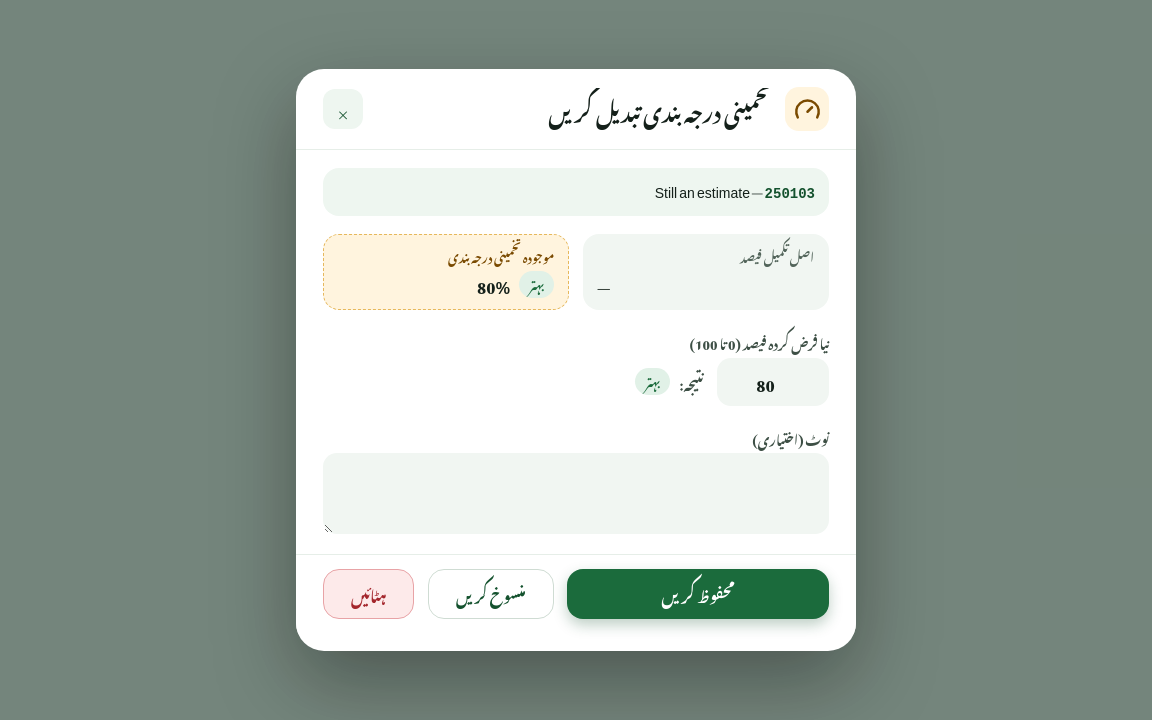
Scenario: saving: the confirmation that the new value is final › cancelling returns to the dialog with what was typed, and saves nothing
The width and height of the screenshot is (1152, 720).
Replace the text in the number field labelled "نیا فرض کردہ فیصد (0 تا 100)" with "95" at (773, 382), box [717,358,829,406]
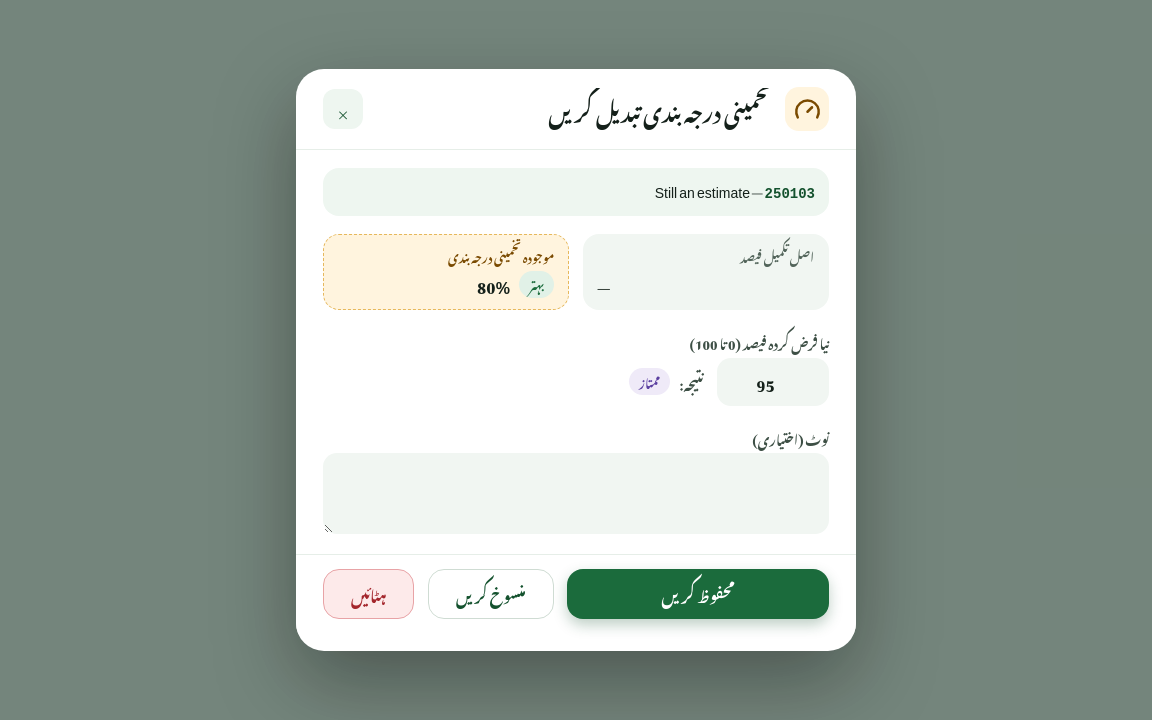
Click the button "محفوظ کریں" at (698, 594), box [567,569,829,619]
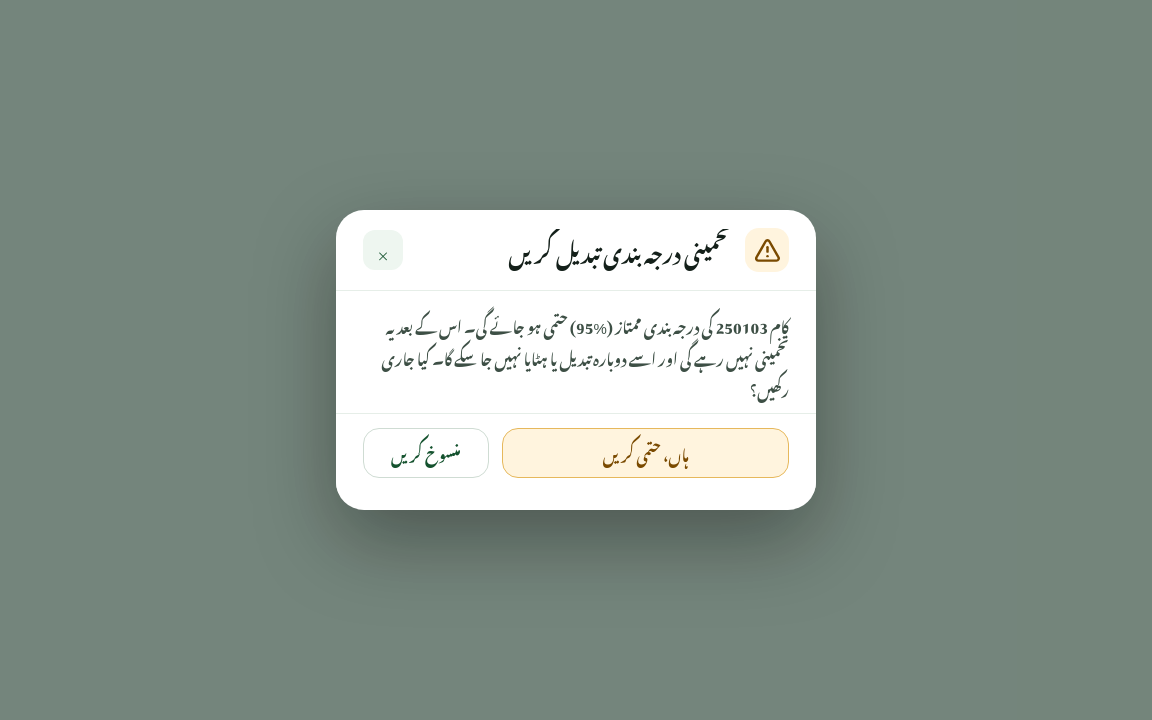
Click the button "منسوخ کریں" at (426, 453), box [363,428,489,478]
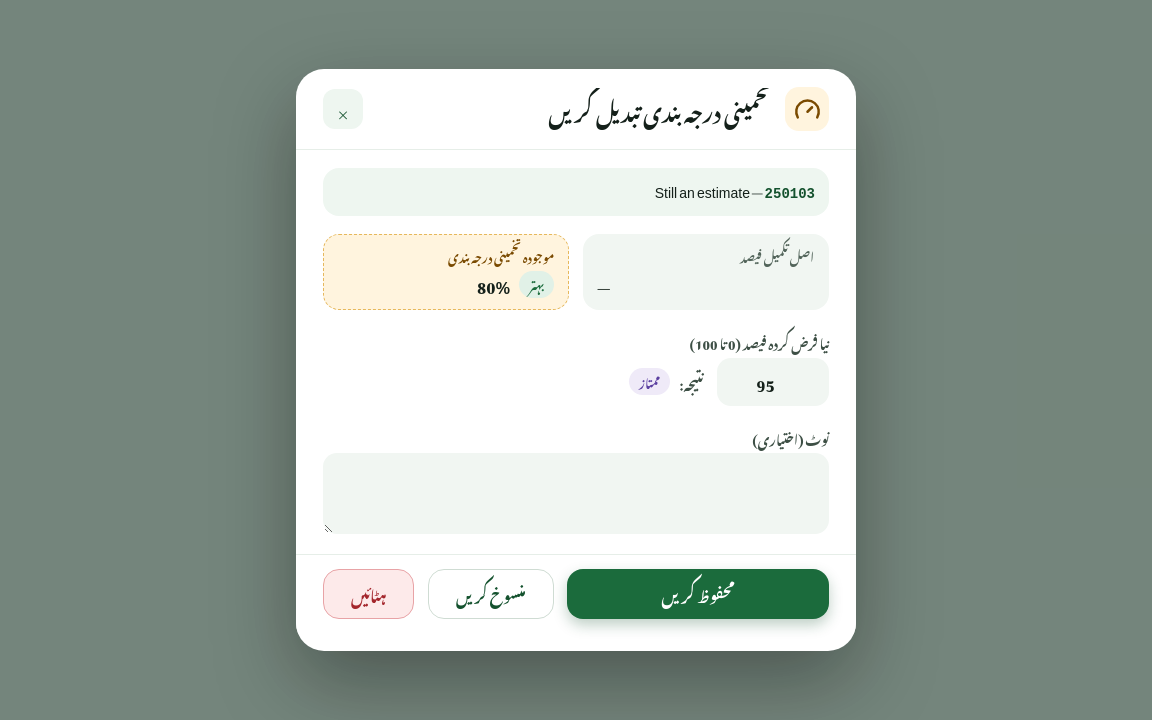
Check: the number field labelled "نیا فرض کردہ فیصد (0 تا 100)" holds "95", box [717,358,829,406]
